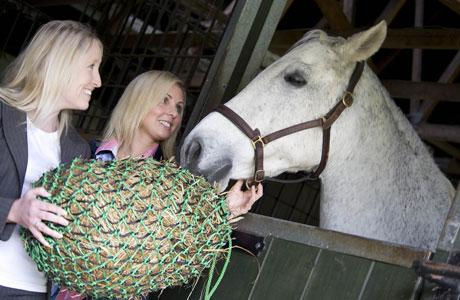person: (1, 19, 104, 300)
